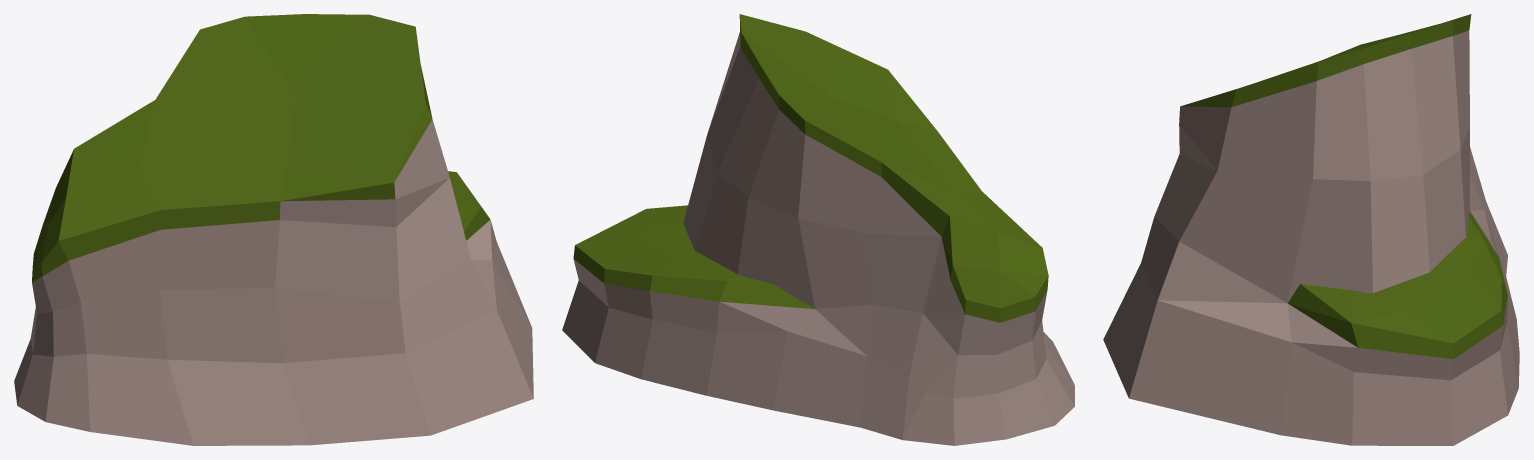
File: Rock_11.fbx
3 renders of one model, left to right at view 1: azimuth 30°, elevation 25°; view 2: azimuth 150°, elevation 25°; view 3: azimuth 270°, elevation 25°, orthographic. The views are drawn at different scales.
Visible parts, largest first — view 1: Rock_11; view 2: Rock_11; view 3: Rock_11.
Part boxes in pixels (x1=…): Rock_11: x1=14, y1=14, x2=533, y2=445; Rock_11: x1=562, y1=14, x2=1074, y2=445; Rock_11: x1=1103, y1=14, x2=1519, y2=445.
Size of the model in its own units: 9.14 by 5.74 by 6.59.
